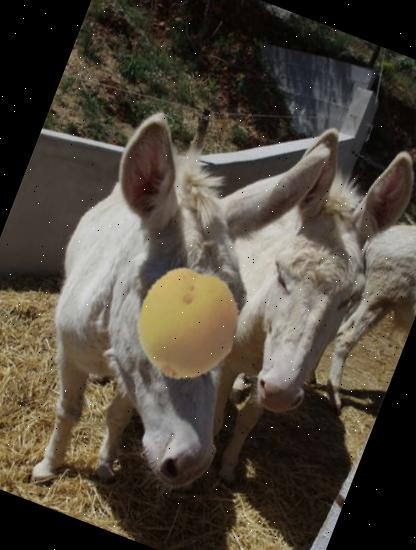Peach: (112, 252, 261, 401)
